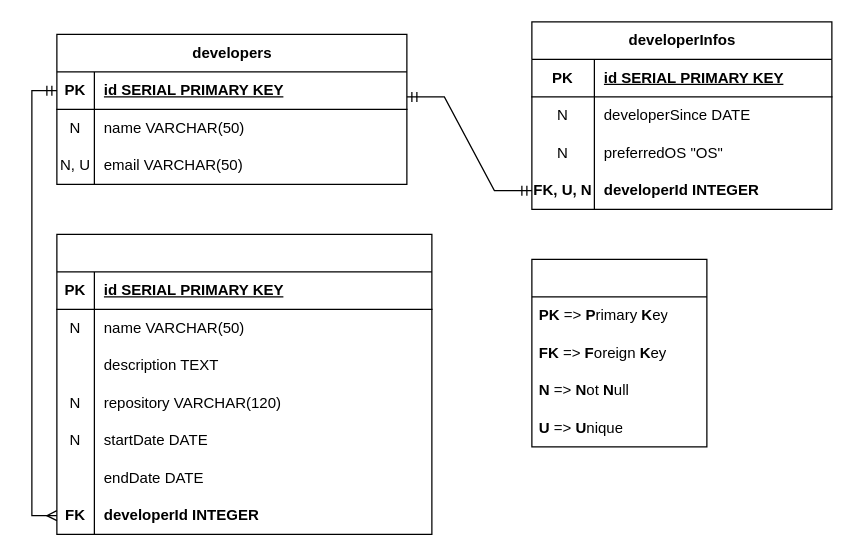
Image size: 854x556. Some labels were removed from this diagram. The box of each missing label's shape, as (x1, y1, x2, y2) in pixels:
Legenda: (531, 258, 707, 447)
projects: (56, 233, 432, 534)
